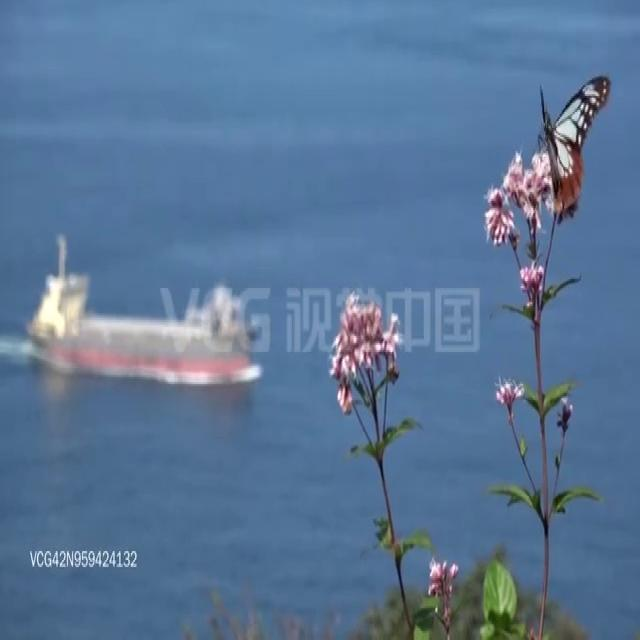cargoship: (24, 233, 264, 392)
